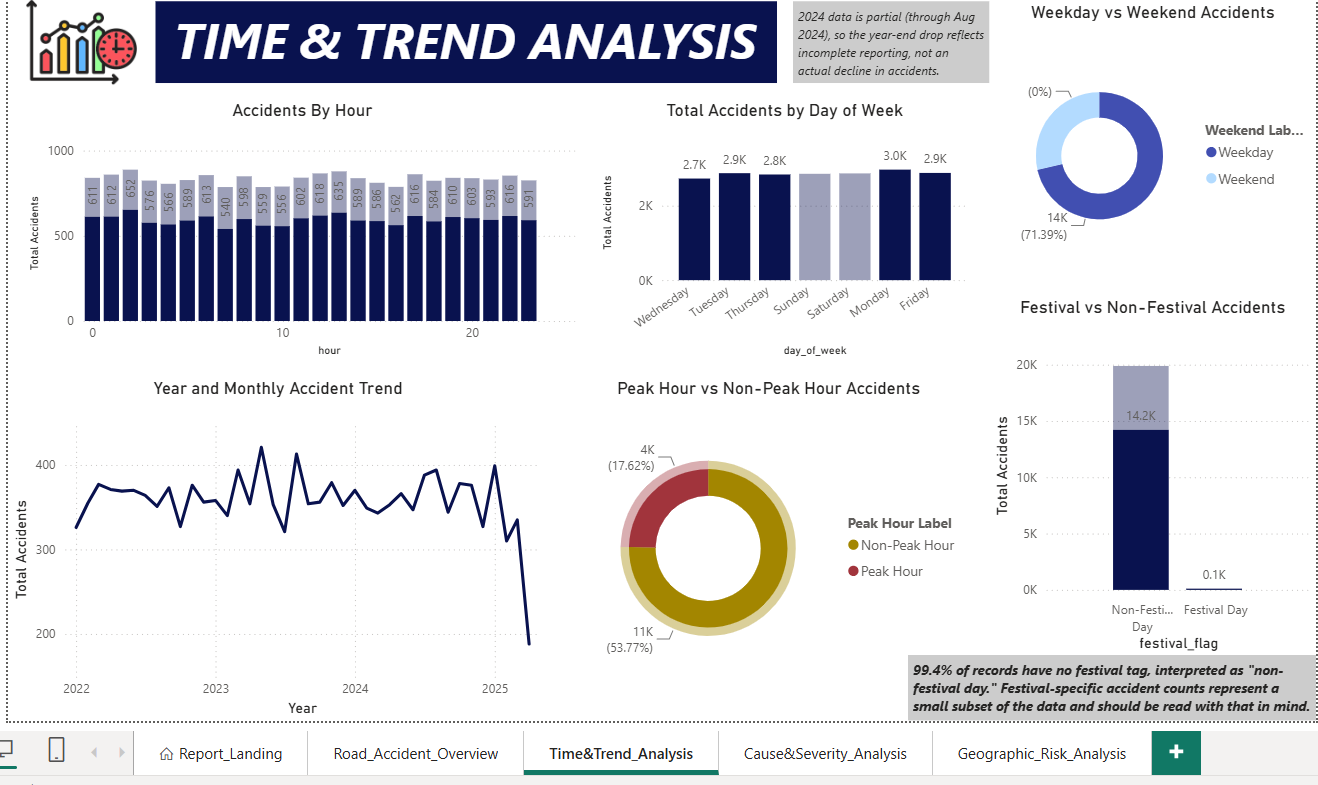

The dashboard page shown, as its layout file describes it:
{"tool":"powerbi","page":{"name":"Time&Trend_Analysis","canvas":[1280,720],"ordinal":2},"visuals":[{"type":"lineChart","title":"Year and Monthly Accident Trend","fields":{"Y":["Measure.Total Accidents"],"Category":["Date Table.Year-Month.Variation.Date Hierarchy.Year","Date Table.Year-Month.Variation.Date Hierarchy.Month"]},"box":[0,384,528,336],"z":0},{"type":"textbox","box":[144,16,608,80],"z":1000},{"type":"clusteredColumnChart","title":"Accidents By Hour","fields":{"Y":["Measure.Total Accidents"],"Category":["Road Accidents.hour"]},"box":[16,112,544,256],"z":2000},{"type":"clusteredColumnChart","title":"Total Accidents by Day of Week","fields":{"Y":["Measure.Total Accidents"],"Category":["Road Accidents.day_of_week"]},"box":[576,112,368,256],"z":3000},{"type":"donutChart","title":"Weekday vs Weekend Accidents","fields":{"Y":["Measure.Total Accidents"],"Category":["Road Accidents.Weekend Label1"]},"box":[960,16,320,272],"z":4000},{"type":"donutChart","title":"Peak Hour vs Non-Peak Hour Accidents","fields":{"Category":["Road Accidents.Peak Hour Label"],"Y":["Measure.Total Accidents"]},"box":[544,384,400,304],"z":5000},{"type":"clusteredColumnChart","title":"Festival vs Non-Festival Accidents","fields":{"Category":["Road Accidents.festival_flag"],"Y":["Measure.Total Accidents"]},"box":[960,304,320,352],"z":6000},{"type":"textbox","box":[880,656,400,64],"z":7000},{"type":"textbox","box":[768,16,192,80],"z":8000},{"type":"image","box":[0,0,144,112],"z":9000}]}

Visuals, with their boxes on the page's 1280x720 design canvas (x1, y1, x2, y2). These are canvas units, not pixel positions in the 1318x785 screenshot, which may show the page scaled, cropped or inside an application window:
"Year and Monthly Accident Trend" lineChart: left=0, top=384, right=528, bottom=720
textbox: left=144, top=16, right=752, bottom=96
"Accidents By Hour" clusteredColumnChart: left=16, top=112, right=560, bottom=368
"Total Accidents by Day of Week" clusteredColumnChart: left=576, top=112, right=944, bottom=368
"Weekday vs Weekend Accidents" donutChart: left=960, top=16, right=1280, bottom=288
"Peak Hour vs Non-Peak Hour Accidents" donutChart: left=544, top=384, right=944, bottom=688
"Festival vs Non-Festival Accidents" clusteredColumnChart: left=960, top=304, right=1280, bottom=656
textbox: left=880, top=656, right=1280, bottom=720
textbox: left=768, top=16, right=960, bottom=96
image: left=0, top=0, right=144, bottom=112
